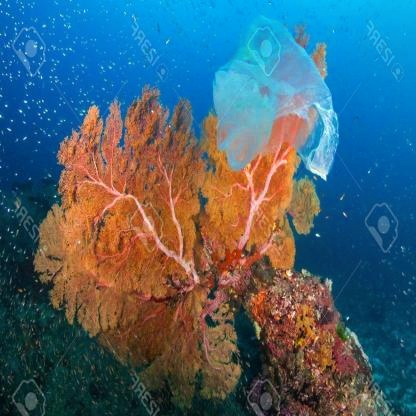pbag: (212, 13, 340, 183)
